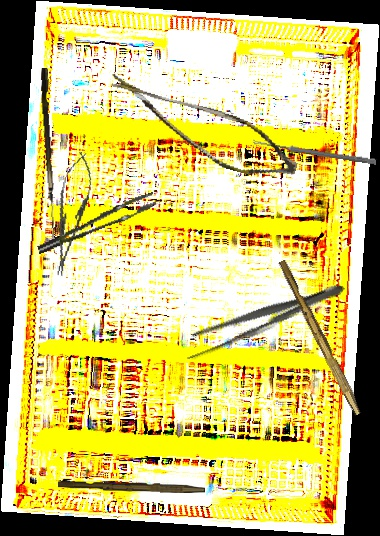Dressing Forceps: (178, 272, 350, 365)
Hook Surgical: (37, 67, 63, 241)
Micro Scissor: (96, 73, 308, 187)
Needle Holder: (44, 149, 98, 280)
Scalpel Handle: (274, 258, 367, 417), (57, 479, 206, 494)
Surgical Spoon: (252, 139, 377, 165)
Tissue Forceps: (31, 192, 161, 254)
